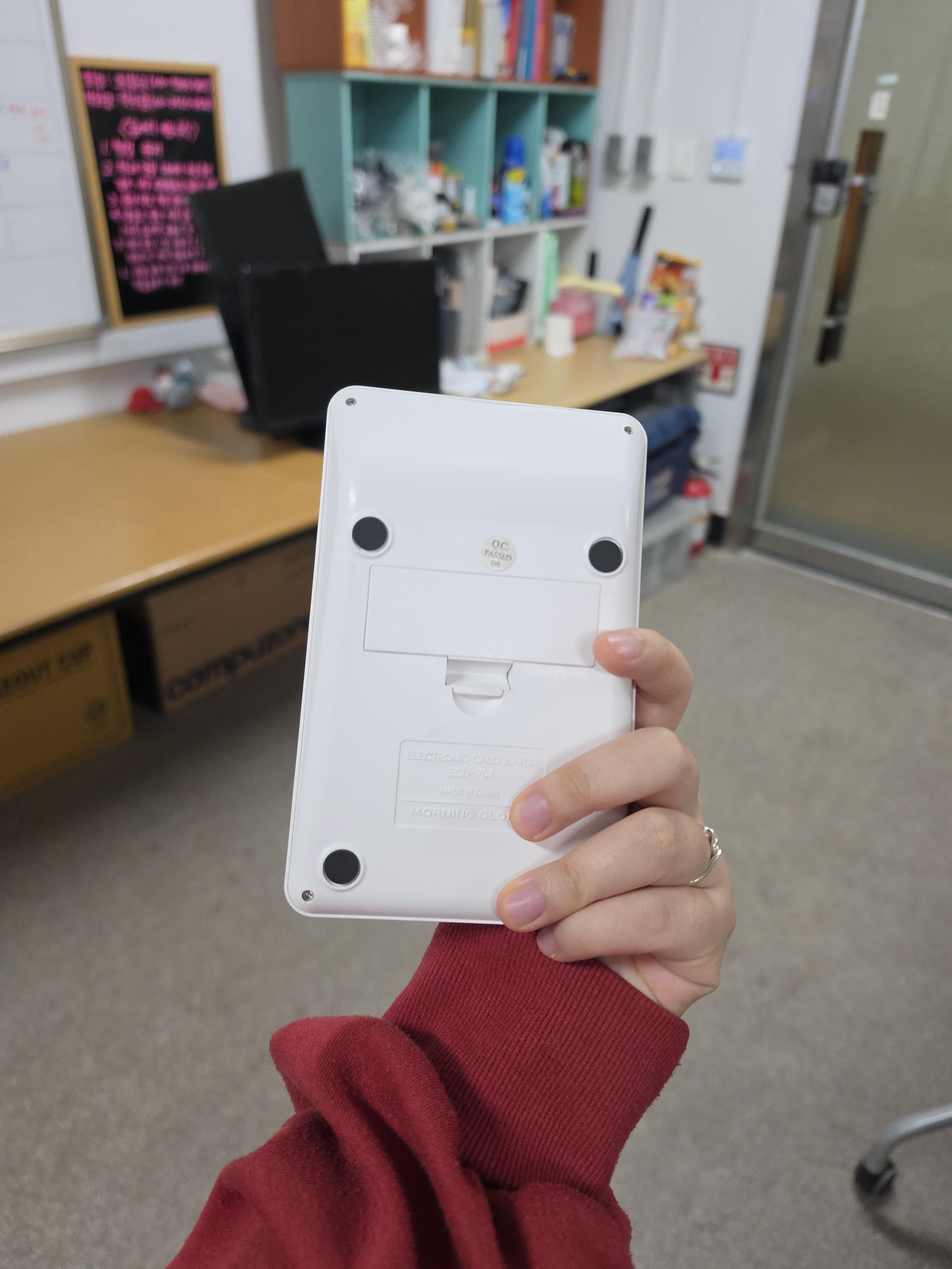calculator: (284, 386, 648, 926)
